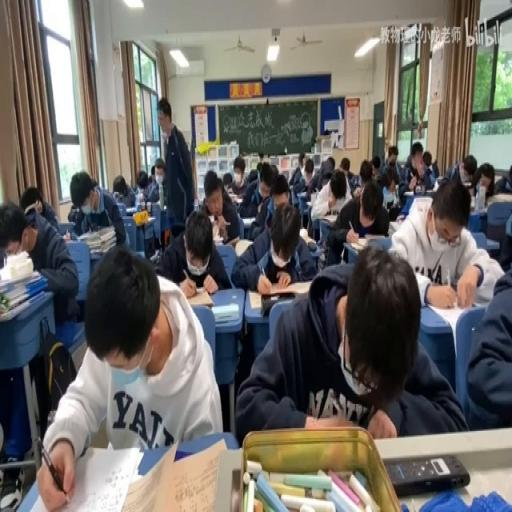calculator: (154, 436, 224, 510), (424, 296, 482, 337), (248, 284, 309, 308), (182, 287, 214, 306), (212, 300, 238, 322), (406, 193, 432, 215), (234, 236, 252, 256), (132, 213, 157, 226), (84, 243, 114, 253), (347, 239, 368, 252), (298, 224, 313, 242), (226, 189, 242, 205), (365, 232, 388, 242), (490, 192, 512, 202), (225, 233, 240, 245), (241, 214, 256, 224), (322, 213, 338, 222), (384, 192, 395, 205), (388, 219, 398, 233), (211, 234, 224, 244), (307, 239, 318, 250), (125, 205, 137, 215), (149, 248, 159, 260), (424, 186, 435, 194), (395, 215, 405, 223), (297, 191, 306, 199), (432, 179, 438, 189), (305, 199, 313, 206)
paper: (37, 248, 218, 510), (237, 243, 461, 440), (390, 176, 500, 308), (2, 193, 80, 326), (464, 253, 510, 430), (229, 196, 315, 289), (326, 176, 388, 264), (66, 168, 126, 254), (158, 94, 194, 237), (197, 169, 238, 246), (238, 158, 274, 220), (439, 154, 480, 192), (492, 199, 512, 273), (305, 155, 334, 195), (380, 151, 402, 193), (136, 162, 159, 202), (19, 185, 45, 219), (112, 174, 136, 208), (492, 165, 512, 196), (420, 151, 437, 186), (272, 172, 290, 205), (289, 165, 305, 196), (330, 175, 346, 202), (68, 205, 82, 230), (358, 158, 372, 182), (233, 156, 245, 180), (221, 172, 233, 191), (370, 154, 380, 174), (339, 156, 350, 174), (114, 200, 126, 214), (482, 174, 492, 190), (298, 152, 304, 171), (326, 155, 334, 169), (270, 162, 278, 176), (305, 168, 313, 180), (258, 151, 264, 162), (256, 160, 262, 170), (150, 164, 155, 176)
person: (384, 452, 470, 494), (146, 200, 152, 214), (112, 189, 119, 199)
